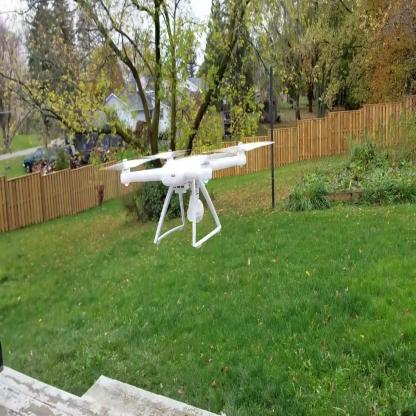drone: (110, 134, 279, 206)
